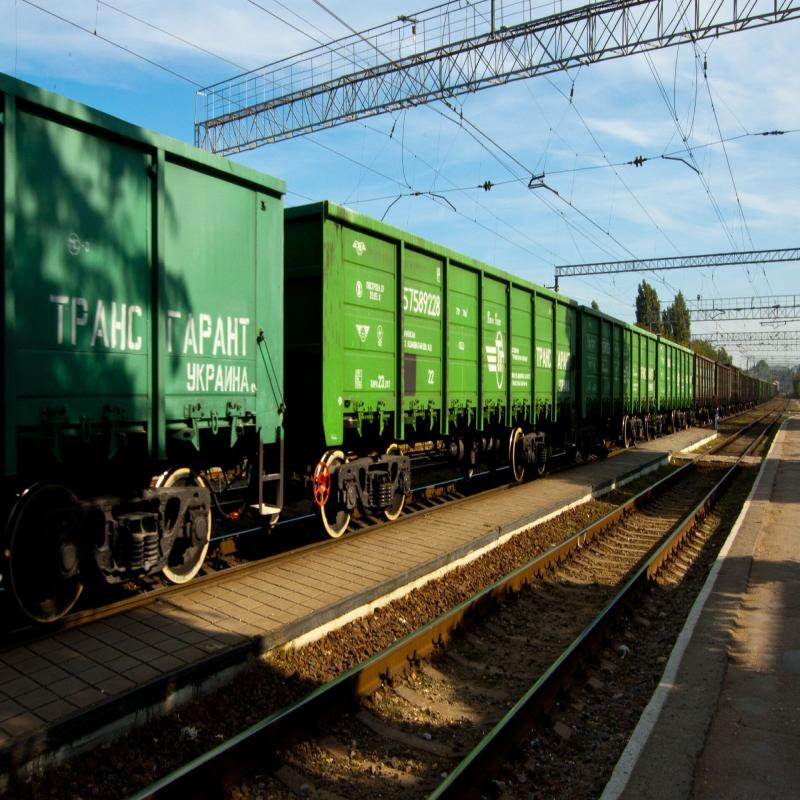train: (1, 104, 298, 628), (289, 198, 587, 545), (580, 319, 699, 468)
